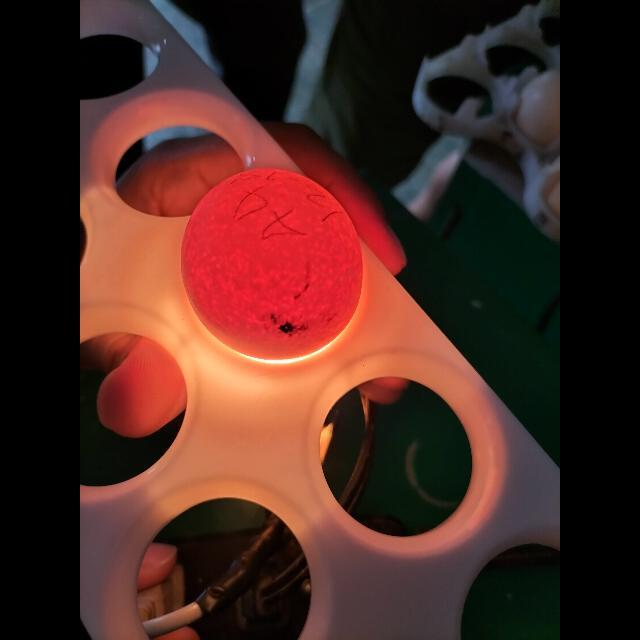Infertile: (184, 166, 363, 360)
